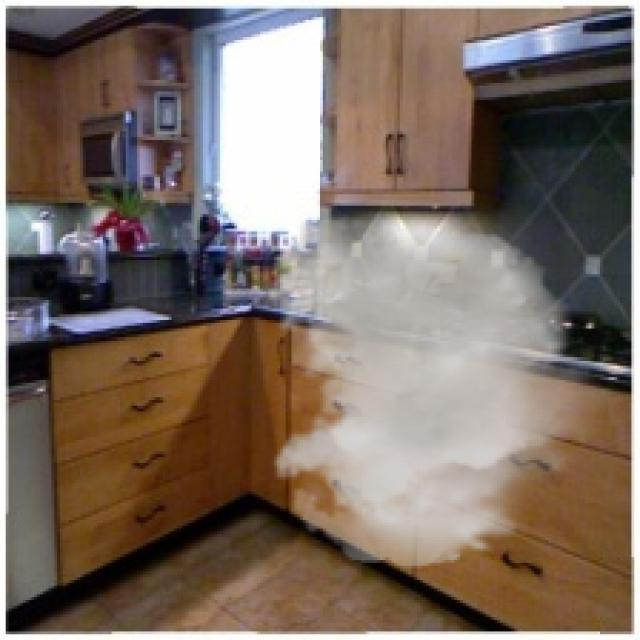Smoke: (260, 214, 617, 569)
